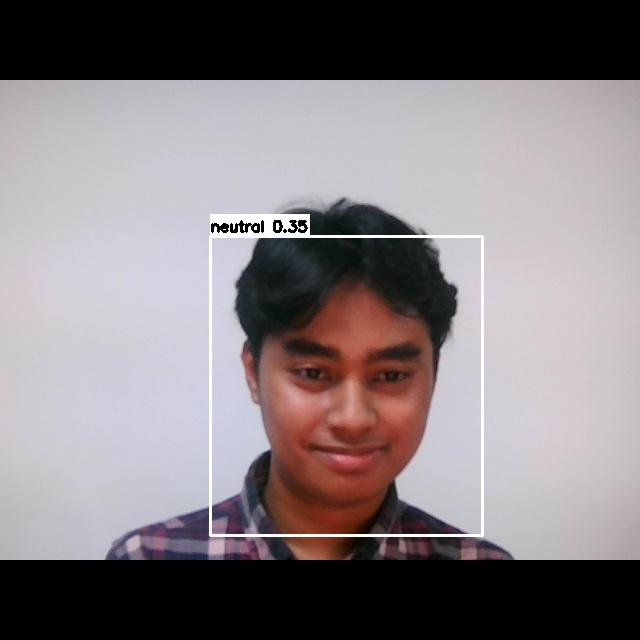Happy: (263, 316, 442, 484)
